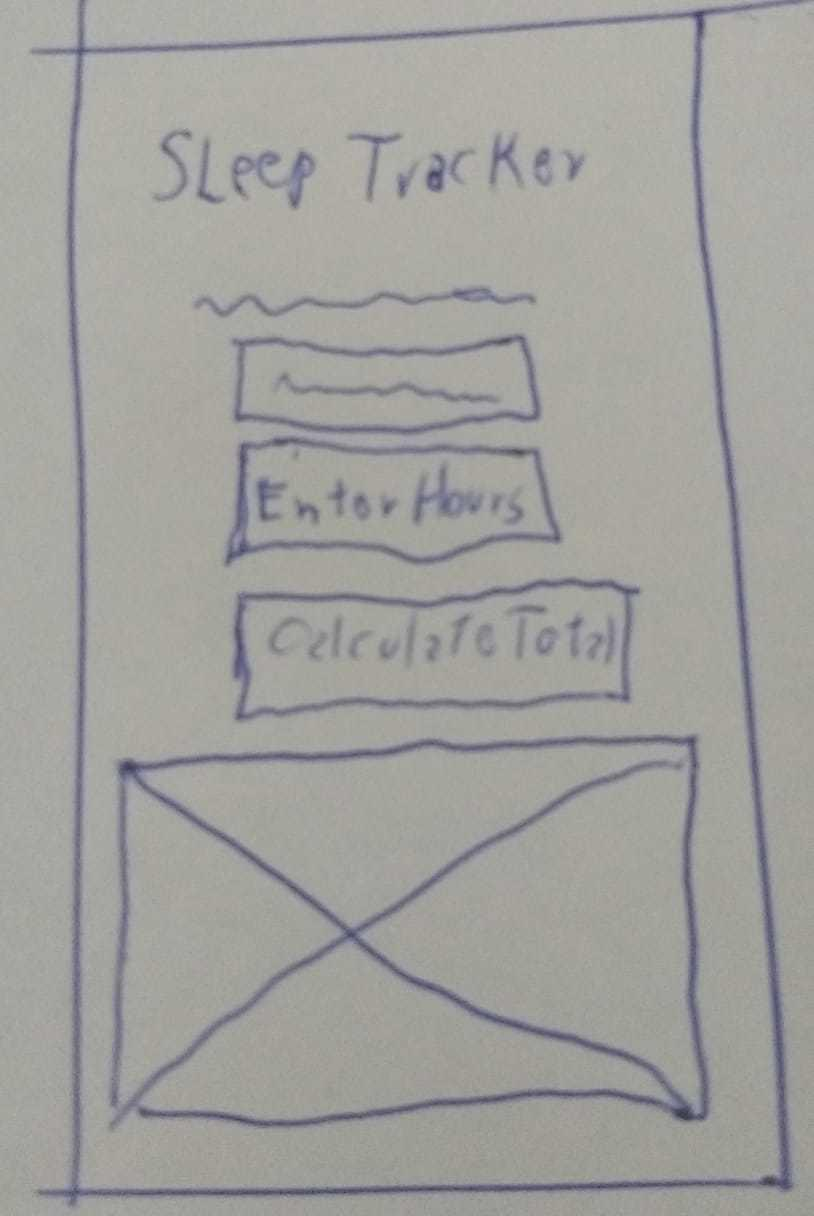Button: (230, 578, 631, 721), (226, 439, 563, 568), (234, 333, 542, 436)
Image: (110, 735, 711, 1128)
Label: (153, 127, 587, 206), (193, 284, 536, 320)
Screen: (69, 10, 791, 1196)
